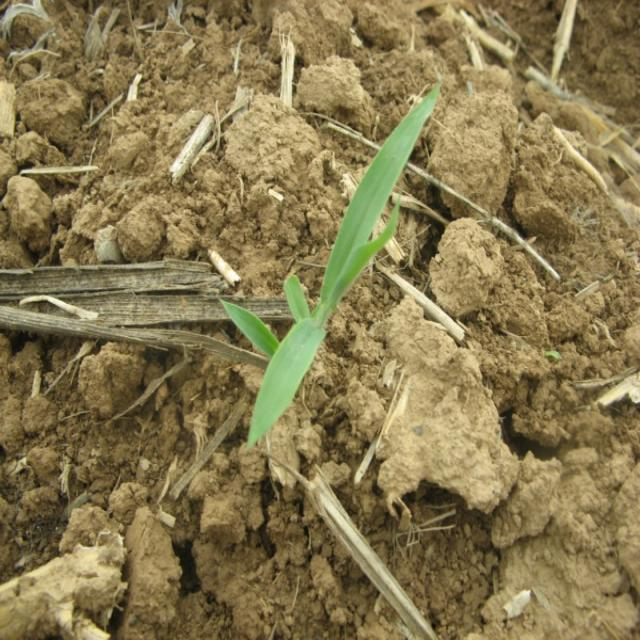bg: (220, 84, 434, 443)
